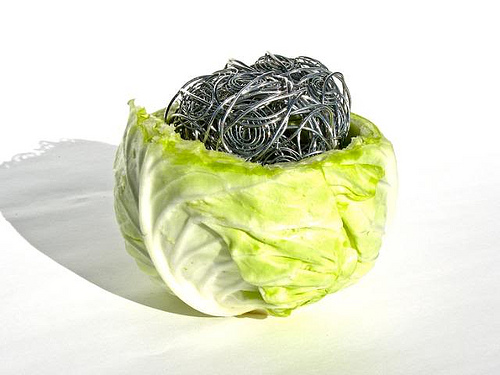cabbage: (117, 108, 392, 319)
